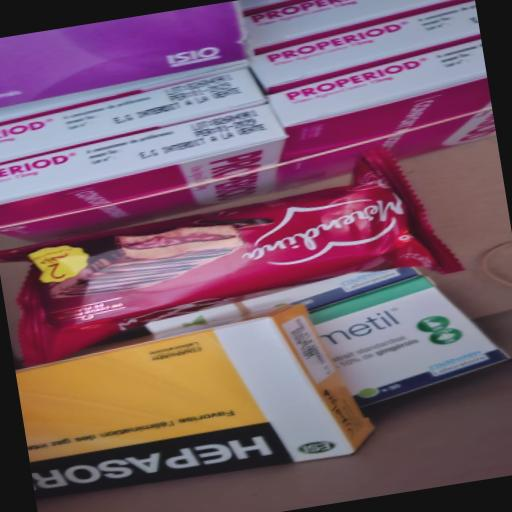merendina: (0, 140, 512, 384)
